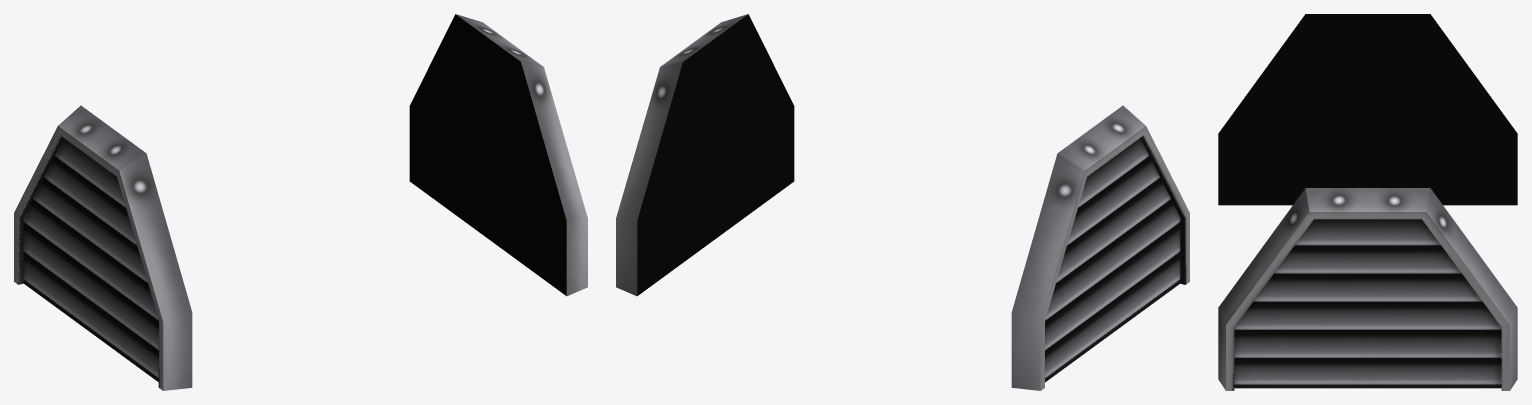
File: _armor.FBX
The picture shows the model from 3 angles, left to right: view 1: azimuth 30°, elevation 25°; view 2: azimuth 150°, elevation 25°; view 3: azimuth 270°, elevation 25°; orthographic projection. The views are drawn at different scales.
Visible parts, largest first — view 1: _armor; view 2: _armor; view 3: _armor.
Boxes of the visible parts, x1,y1,x2,y2 form: _armor: (14, 14, 587, 390); _armor: (616, 14, 1189, 390); _armor: (1218, 14, 1517, 390).
Bounding box in the file's own units: 1.36 × 0.6149 × 0.8719.
